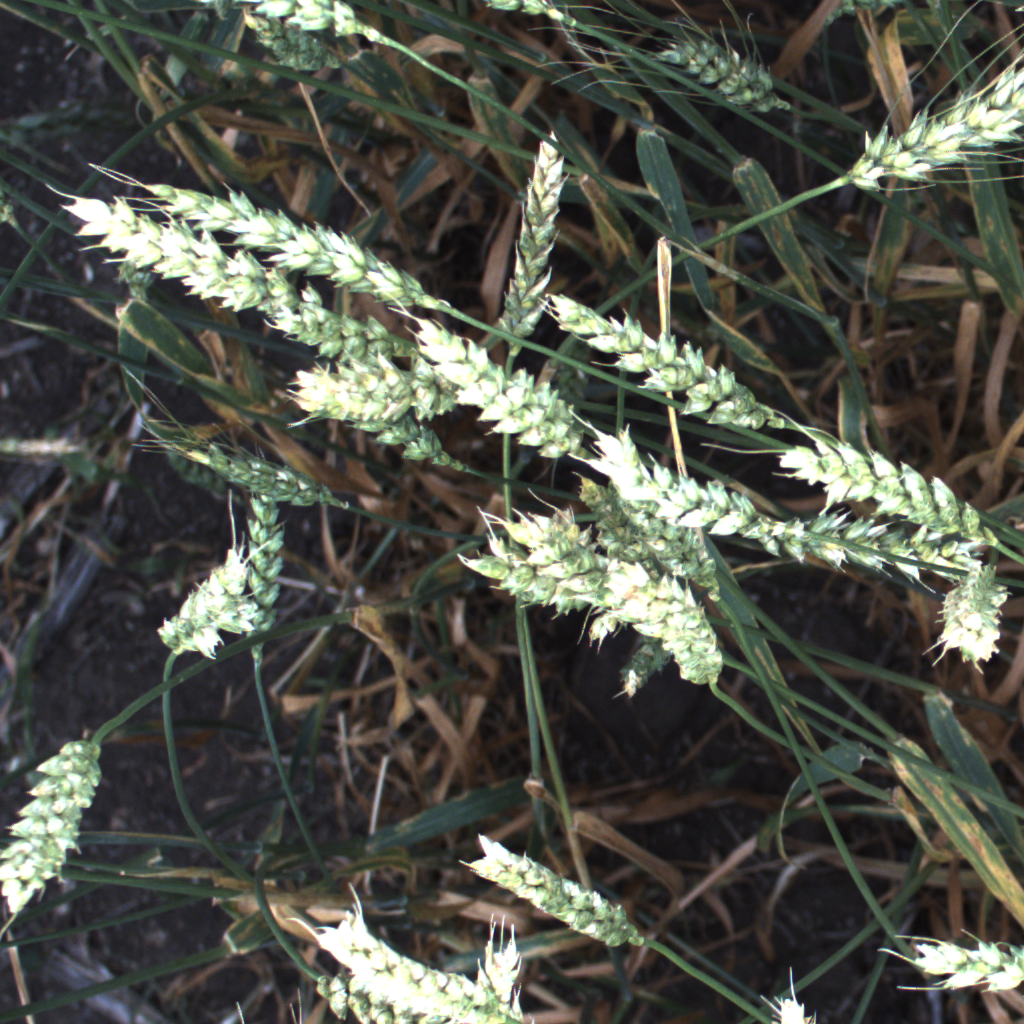wheat_head: (94, 161, 453, 317), (43, 175, 338, 330), (536, 281, 800, 436), (828, 6, 1024, 207), (400, 316, 611, 473), (574, 407, 785, 550), (768, 423, 1006, 548), (307, 901, 540, 1024), (435, 519, 686, 628), (128, 406, 338, 525), (465, 830, 655, 957), (0, 720, 112, 929), (488, 123, 571, 366), (597, 552, 742, 688), (756, 505, 996, 585), (331, 341, 462, 481), (629, 10, 796, 119), (269, 347, 471, 429), (154, 534, 272, 671), (882, 919, 1024, 1019), (225, 476, 295, 674), (257, 288, 412, 367), (644, 468, 733, 601), (303, 961, 476, 1024), (217, 4, 356, 81), (923, 564, 1014, 679), (462, 924, 530, 1022), (243, 0, 384, 41), (607, 633, 681, 703)
